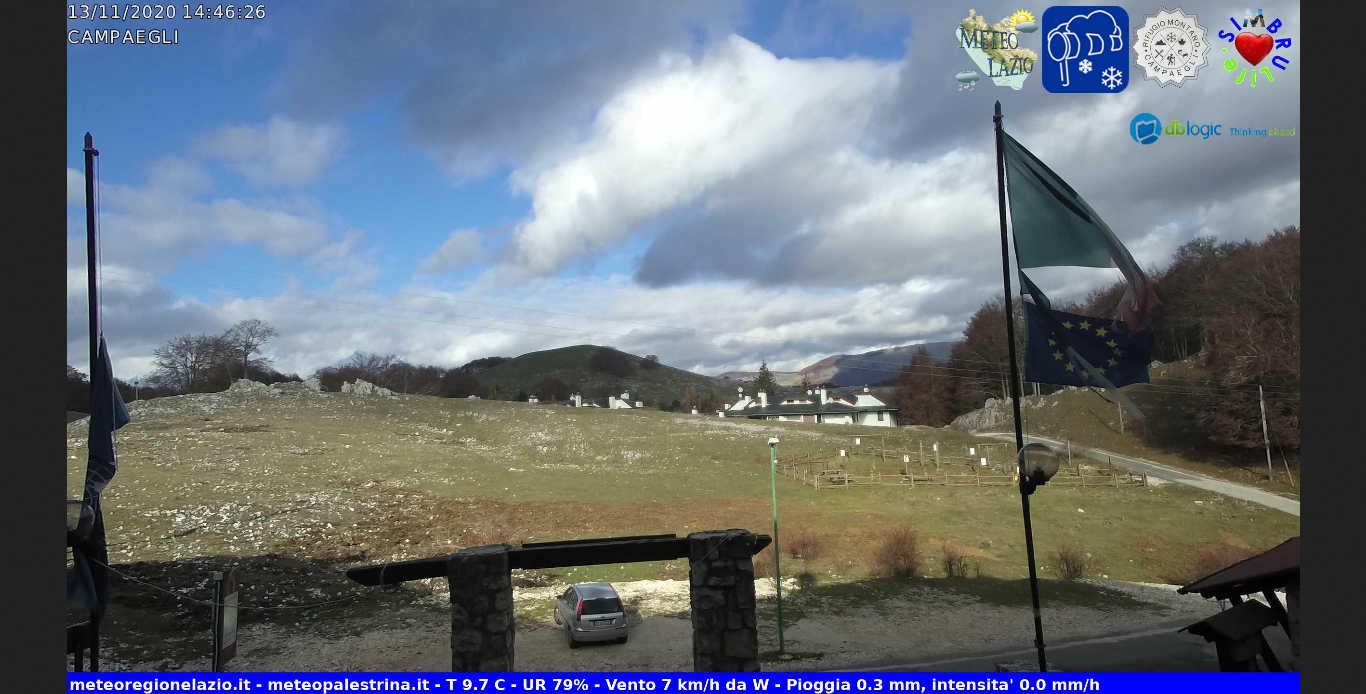maybe: (983, 93, 1205, 312)
yes: (999, 286, 1170, 406)
